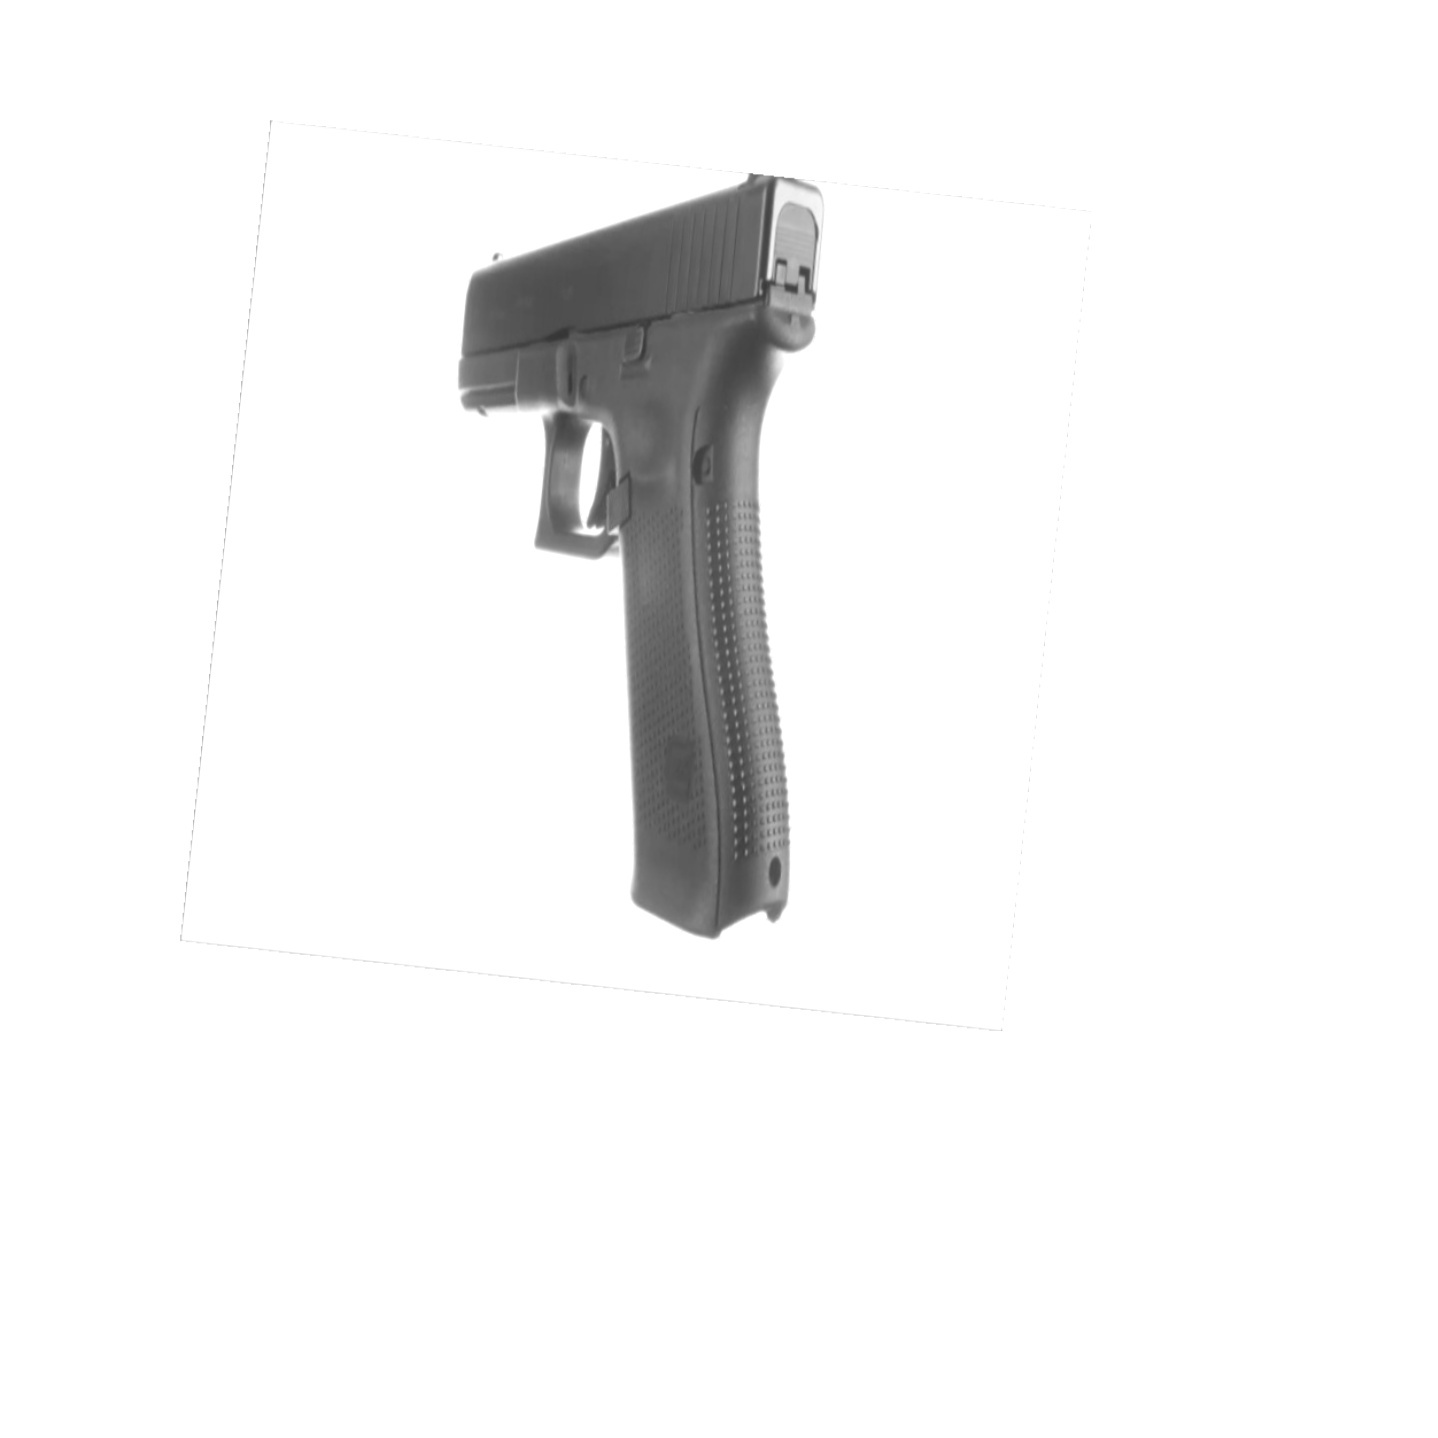gun: (457, 174, 824, 942)
